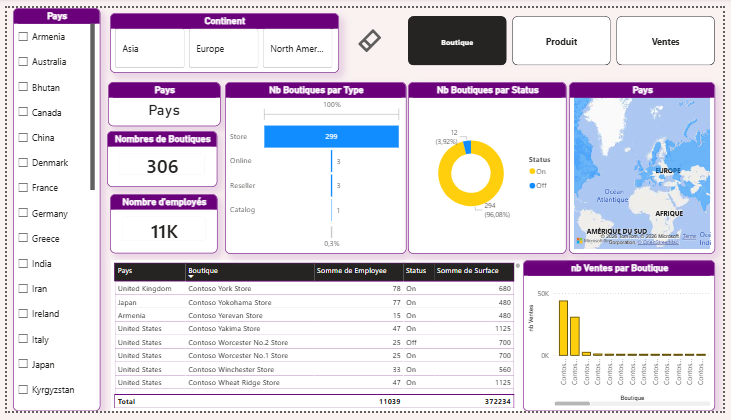

What the dashboard file says about the page in this screenshot:
{"tool":"powerbi","page":{"name":"Boutique","canvas":[1280,720],"ordinal":0},"visuals":[{"type":"listSlicer","title":"Pays","fields":{"Values":["Geographie.Pays"]},"box":[11.4,0,155.7,720],"z":0},{"type":"advancedSlicerVisual","fields":{"Values":["Geographie.Continent"]},"box":[184.3,8.6,408.6,107.1],"z":1000},{"type":"actionButton","box":[623.2,34.8,79.7,49.3],"z":2000},{"type":"card","title":"Pays","fields":{"Values":["Geographie.SelectedPays"]},"box":[179.8,131.5,201.1,78.7],"z":3000},{"type":"cardVisual","title":"Nombres de Boutiques","fields":{"Data":["Boutiques.Nb Boutiques"]},"box":[179.3,220.4,196.9,104.3],"z":4000},{"type":"cardVisual","title":"Nombre d''employés","fields":{"Data":["Sum(Boutiques.Employee)"]},"box":[183.7,336.5,192.5,101.4],"z":5000},{"type":"tableEx","fields":{"Values":["Geographie.Pays","Boutiques.Boutique","Sum(Boutiques.Employee)","Boutiques.Status","Sum(Boutiques.Surface)"]},"box":[185.5,450.7,736.2,269.6],"z":6000},{"type":"columnChart","fields":{"Category":["Boutiques.Boutique"],"Y":["Sales.nb Ventes"]},"box":[911,451.1,354.1,268.9],"z":7000},{"type":"funnel","fields":{"Y":["Boutiques.Nb Boutiques"],"Category":["Boutiques.Type"]},"box":[388.6,131.4,324.3,307.1],"z":8000},{"type":"donutChart","fields":{"Y":["Boutiques.Nb Boutiques"],"Category":["Boutiques.Status"]},"box":[715.7,131.4,282.9,307.1],"z":9000},{"type":"filledMap","fields":{"Category":["Geographie.Pays"]},"box":[1004.3,131.4,261.4,307.1],"z":10000},{"type":"pageNavigator","box":[715.9,14.5,549.3,88.4],"z":11000}]}

Visuals, with their boxes in screenshot pixels (x1, y1, x2, y2), scaled from the page's 1280x720 canvas onto the 731x420 screenshot:
"Pays" listSlicer: (7, 0, 95, 419)
advancedSlicerVisual - Geographie.Continent: (105, 5, 339, 67)
actionButton: (356, 20, 401, 49)
"Pays" card: (103, 77, 218, 123)
"Nombres de Boutiques" cardVisual: (102, 129, 215, 189)
"Nombre d''employés" cardVisual: (105, 196, 215, 255)
tableEx - Geographie.Pays x Boutiques.Boutique: (106, 263, 526, 419)
columnChart - Boutiques.Boutique x Sales.nb Ventes: (520, 263, 722, 419)
funnel - Boutiques.Nb Boutiques x Boutiques.Type: (222, 77, 407, 256)
donutChart - Boutiques.Nb Boutiques x Boutiques.Status: (409, 77, 570, 256)
filledMap - Geographie.Pays: (574, 77, 723, 256)
pageNavigator: (409, 8, 723, 60)
